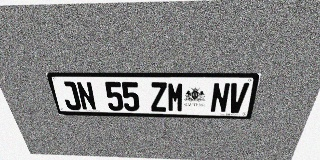5: (104, 82, 124, 111), (121, 82, 140, 111)
J: (59, 81, 82, 110)
M: (167, 82, 184, 112)
N: (210, 82, 231, 113), (75, 81, 97, 110)
V: (227, 83, 249, 113)
Z: (150, 82, 167, 112)
